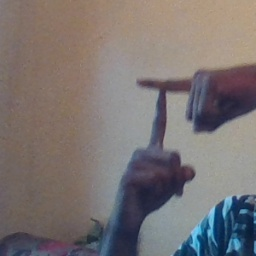T: (115, 66, 219, 170)
